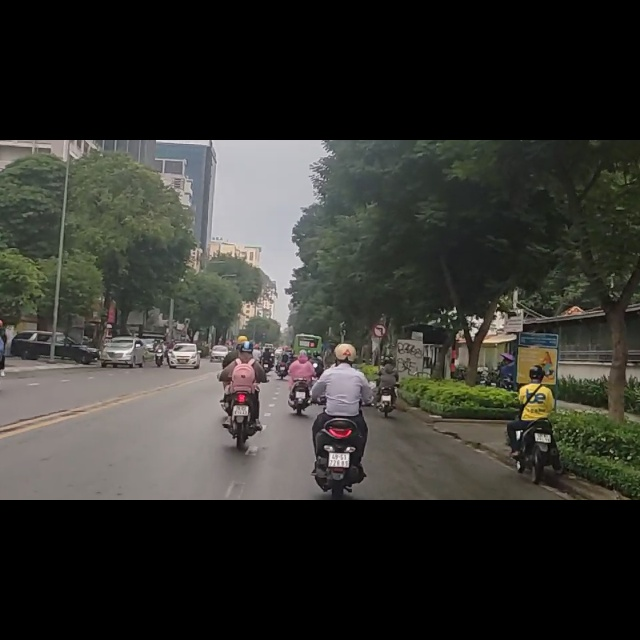Cấm rẽ trái: (373, 324, 387, 337)
